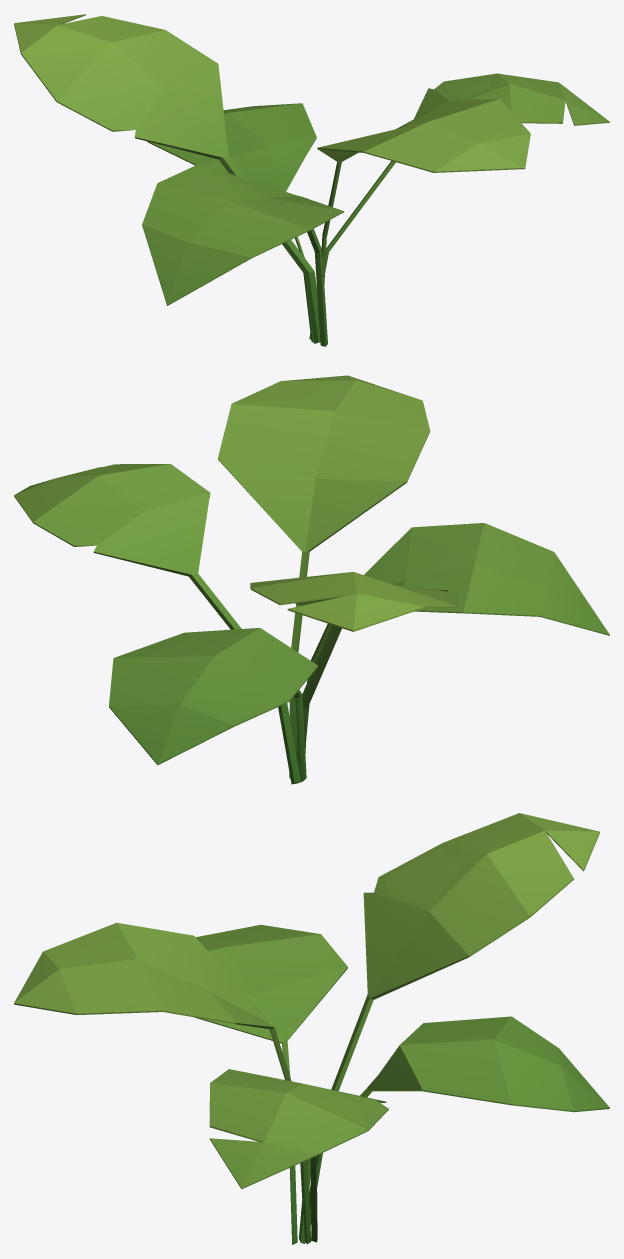
File: SM_Nature_Plant_04.fbx
3 views of the same model, one above another, from view 1: azimuth 30°, elevation 25°; view 2: azimuth 150°, elevation 25°; view 3: azimuth 270°, elevation 25° (orthographic). The views are drawn at different scales.
Parts seen in each view (by area): view 1: SM_Nature_Plant_04; view 2: SM_Nature_Plant_04; view 3: SM_Nature_Plant_04.
Part boxes in pixels (x1,y1,x2,y2): SM_Nature_Plant_04: [14, 14, 609, 346]; SM_Nature_Plant_04: [14, 375, 609, 784]; SM_Nature_Plant_04: [14, 813, 609, 1244].
Bounding box in the file's own units: 67.77 × 38 × 63.2.
